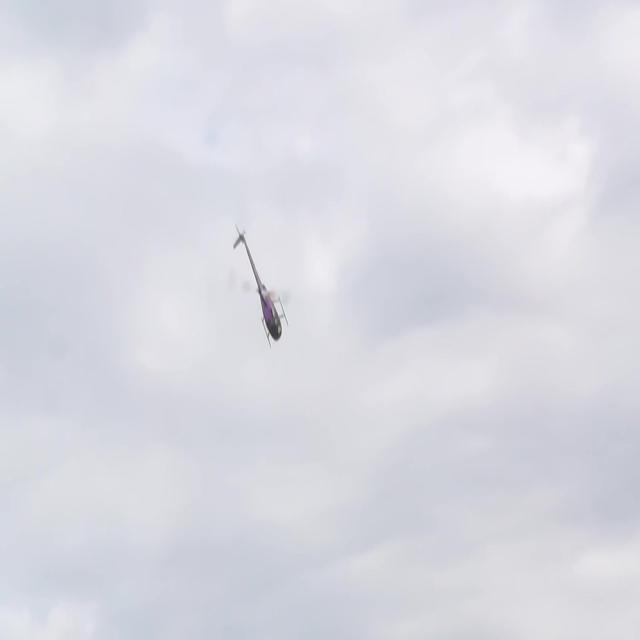CIV_HELO: (232, 222, 288, 348)
